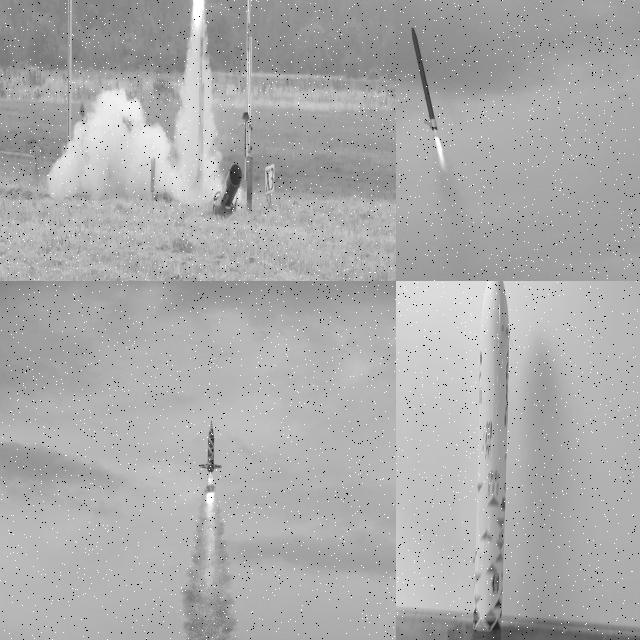Rocket: (472, 281, 509, 640), (410, 24, 448, 131), (200, 420, 222, 473)
